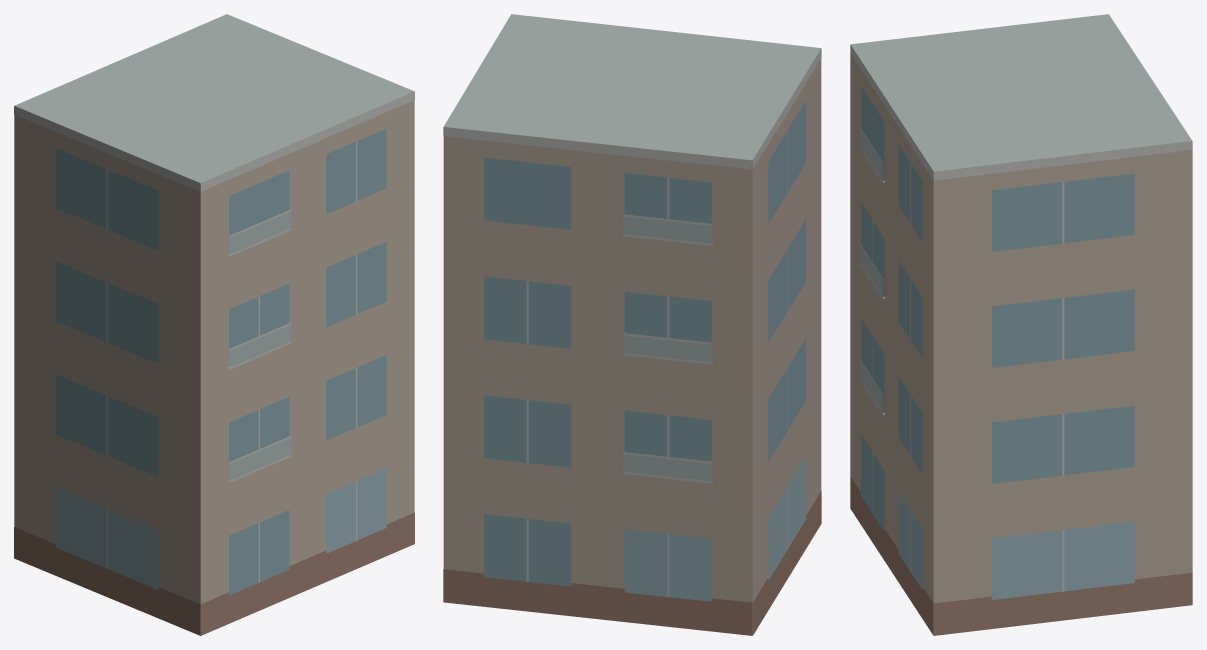
Rendered from survey-upis-32719098.glb.
The picture shows the model from 3 angles, left to right: view 1: azimuth 30°, elevation 25°; view 2: azimuth 150°, elevation 25°; view 3: azimuth 270°, elevation 25°; orthographic projection. The views are drawn at different scales.
Visible parts, largest first — view 1: survey-upis-32719098.tmp; view 2: survey-upis-32719098.tmp; view 3: survey-upis-32719098.tmp.
Boxes of the visible parts, box(x1,y1,x2,y2) form: survey-upis-32719098.tmp: box(14, 14, 414, 635); survey-upis-32719098.tmp: box(443, 14, 821, 635); survey-upis-32719098.tmp: box(850, 14, 1192, 635).
Size of the model in its own units: 9.19 by 12.6 by 8.43.
